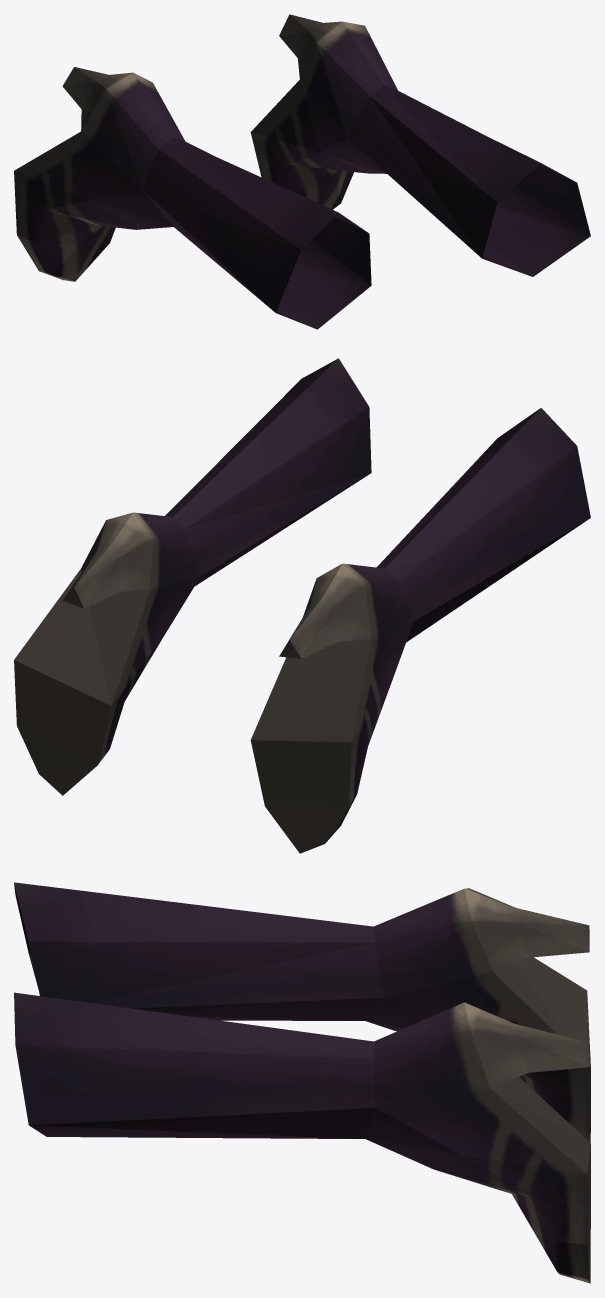
Rendered from priest_shoe_female_49770.obj.
3 renders of one model, top to bottom at view 1: azimuth 30°, elevation 25°; view 2: azimuth 150°, elevation 25°; view 3: azimuth 270°, elevation 25°, orthographic. The views are drawn at different scales.
Parts seen in each view (by area): view 1: priest_shoe_female_49770; view 2: priest_shoe_female_49770; view 3: priest_shoe_female_49770.
Boxes of the visible parts, x1,y1,x2,y2 form: priest_shoe_female_49770: (14,14,590,329); priest_shoe_female_49770: (14,358,590,853); priest_shoe_female_49770: (14,882,590,1283).
Size of the model in its own units: 16.93 by 12.1 by 22.47.
1 material, 1 textured.
